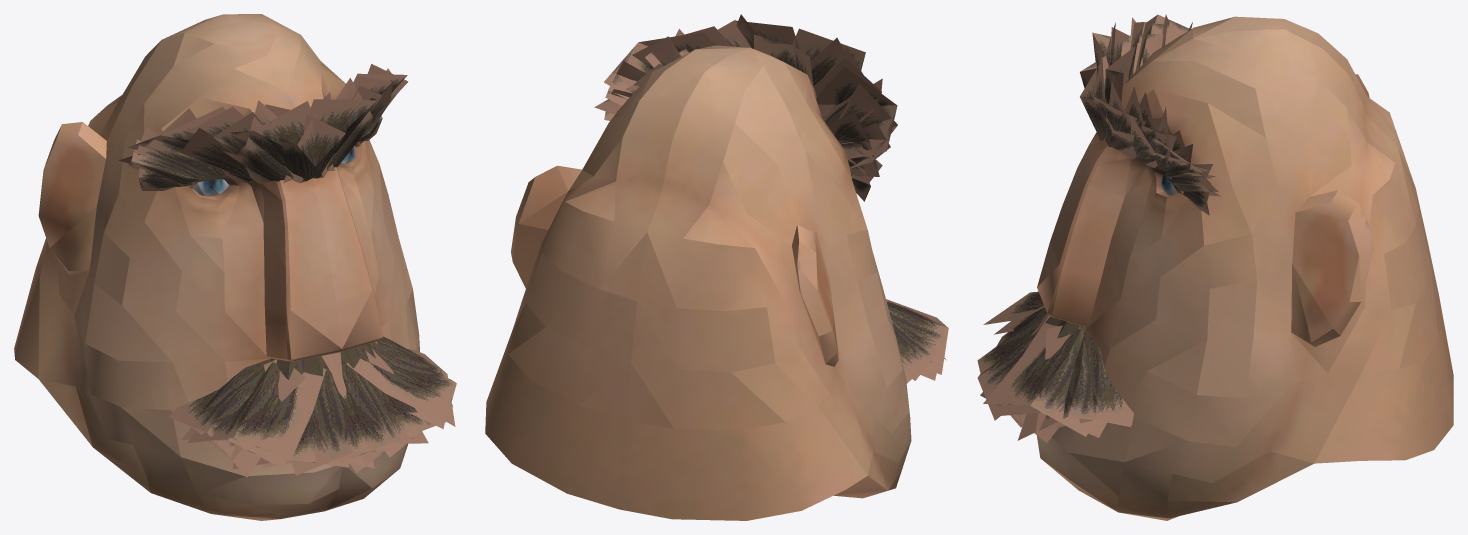
Rendered from tim_lockwood_icon_head.glb.
The picture shows the model from 3 angles, left to right: view 1: azimuth 30°, elevation 25°; view 2: azimuth 150°, elevation 25°; view 3: azimuth 270°, elevation 25°; orthographic projection. The views are drawn at different scales.
Visible parts, largest first — view 1: Object_3, Object_2; view 2: Object_3, Object_2; view 3: Object_3, Object_2.
Boxes of the visible parts, box(x1,y1,x2,y2) form: Object_3: box(14, 14, 419, 520); Object_2: box(118, 64, 456, 477); Object_3: box(485, 45, 911, 520); Object_2: box(594, 14, 948, 383); Object_3: box(1037, 16, 1453, 520); Object_2: box(977, 14, 1220, 442).
Size of the model in its own units: 0.3536 by 0.4342 by 0.4072.
2 materials, 2 textured.
